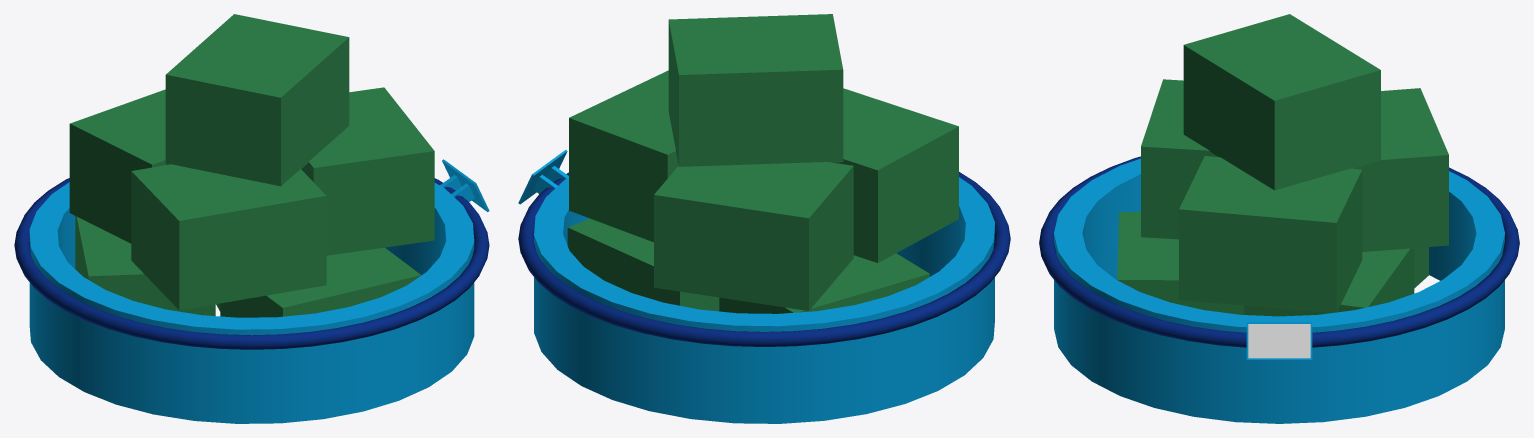
The model's file is Money_tower.fbx.
The picture shows the model from 3 angles, left to right: view 1: azimuth 30°, elevation 25°; view 2: azimuth 150°, elevation 25°; view 3: azimuth 270°, elevation 25°; orthographic projection. The views are drawn at different scales.
Visible parts, largest first — view 1: Cylinder.005, Cube.017, Cube.015, Cube.016, Cube.014, Cube.011, Cube.013, Cube.020; view 2: Cylinder.005, Cube.014, Cube.017, Cube.015, Cube.016, Cube.012, Cube.013, Cube.020; view 3: Cylinder.005, Cube.017, Cube.016, Cube.014, Cube.015, Cube.011, Cube.012, Cube.020, Cube.013.
Part boxes in pixels (left/top/right/bottom): Cylinder.005: left=14, top=178, right=489, bottom=423; Cube.017: left=165, top=14, right=349, bottom=186; Cube.015: left=131, top=164, right=326, bottom=310; Cube.016: left=301, top=87, right=434, bottom=255; Cube.014: left=69, top=89, right=167, bottom=243; Cube.011: left=220, top=247, right=421, bottom=317; Cube.013: left=75, top=216, right=215, bottom=315; Cube.020: left=440, top=159, right=489, bottom=211; Cylinder.005: left=518, top=172, right=1010, bottom=423; Cube.014: left=654, top=162, right=853, bottom=310; Cube.017: left=668, top=14, right=843, bottom=166; Cube.015: left=834, top=88, right=958, bottom=262; Cube.016: left=569, top=70, right=678, bottom=242; Cube.012: left=567, top=218, right=719, bottom=311; Cube.013: left=719, top=253, right=929, bottom=313; Cube.020: left=518, top=150, right=568, bottom=204; Cylinder.005: left=1039, top=156, right=1519, bottom=423; Cube.017: left=1183, top=14, right=1380, bottom=190; Cube.016: left=1179, top=156, right=1362, bottom=312; Cube.014: left=1354, top=88, right=1448, bottom=251; Cube.015: left=1141, top=79, right=1217, bottom=239; Cube.011: left=1117, top=212, right=1243, bottom=314; Cube.012: left=1244, top=248, right=1414, bottom=316; Cube.020: left=1246, top=322, right=1312, bottom=359; Cube.013: left=1414, top=247, right=1428, bottom=288.
Size of the model in its own units: 253 by 154 by 244.
